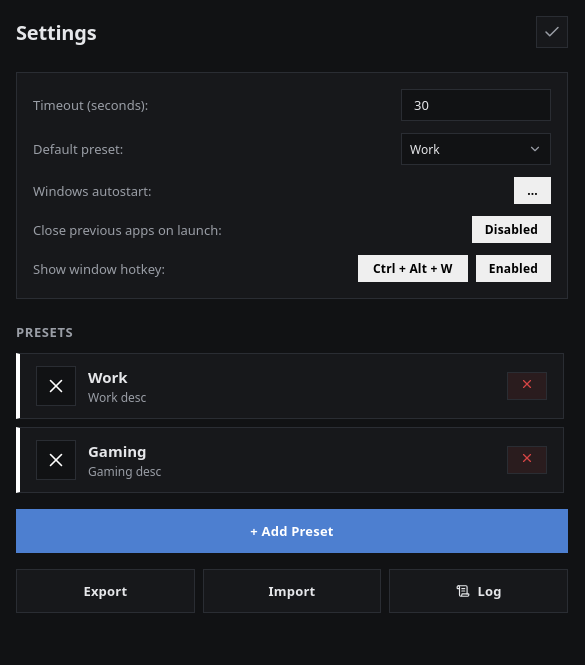
SettingsView › reports a log that could not be opened
Click the button "Log". click: (479, 591)
box: [389,569,568,613]
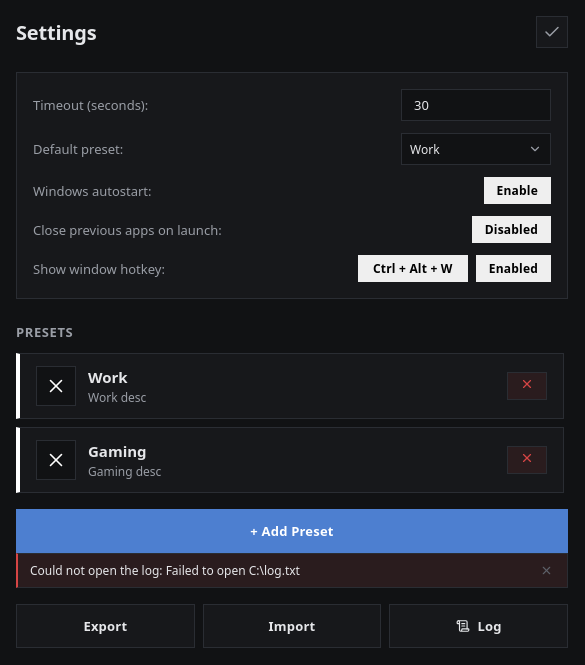
Check: the text "Could not open the log: Failed to open C:\\log.txt" is shown, box [30,562,300,579]
